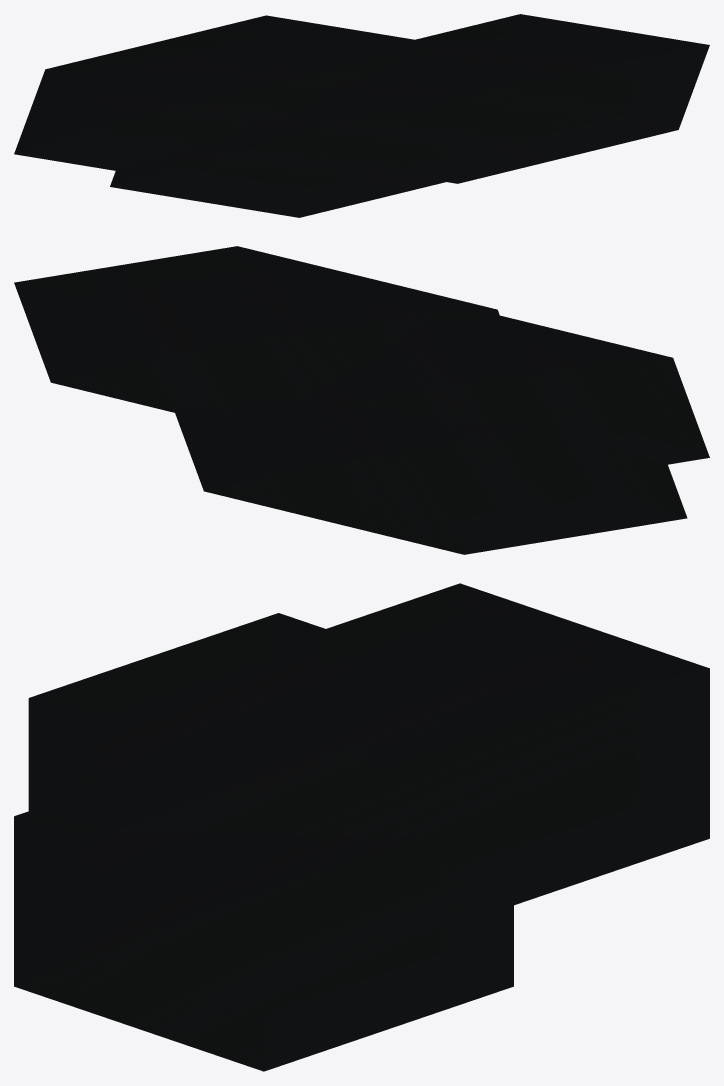
File: PROP-26E3E95F30AF_lod2.glb
The picture shows the model from 3 angles, top to bottom: view 1: azimuth 30°, elevation 25°; view 2: azimuth 150°, elevation 25°; view 3: azimuth 270°, elevation 25°; orthographic projection. The views are drawn at different scales.
Parts seen in each view (by area): view 1: surface_hazard.004; view 2: surface_hazard.004; view 3: surface_hazard.004.
Part boxes in pixels (<box>): surface_hazard.004: <box>14,14,709,217</box>; surface_hazard.004: <box>14,246,709,554</box>; surface_hazard.004: <box>14,583,709,1071</box>.
Bounding box in the file's own units: 1.72 × 0.036 × 1.04.
Materials: 1 (1 with a texture image).
